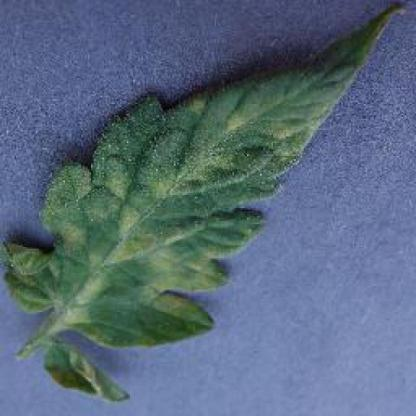Tomato_Leaf_Mold: (4, 4, 404, 345)
